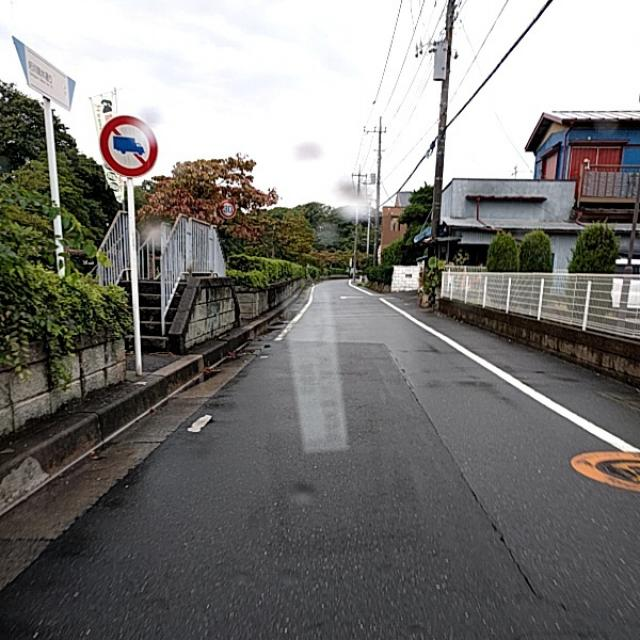pothole: (430, 476, 508, 558)
